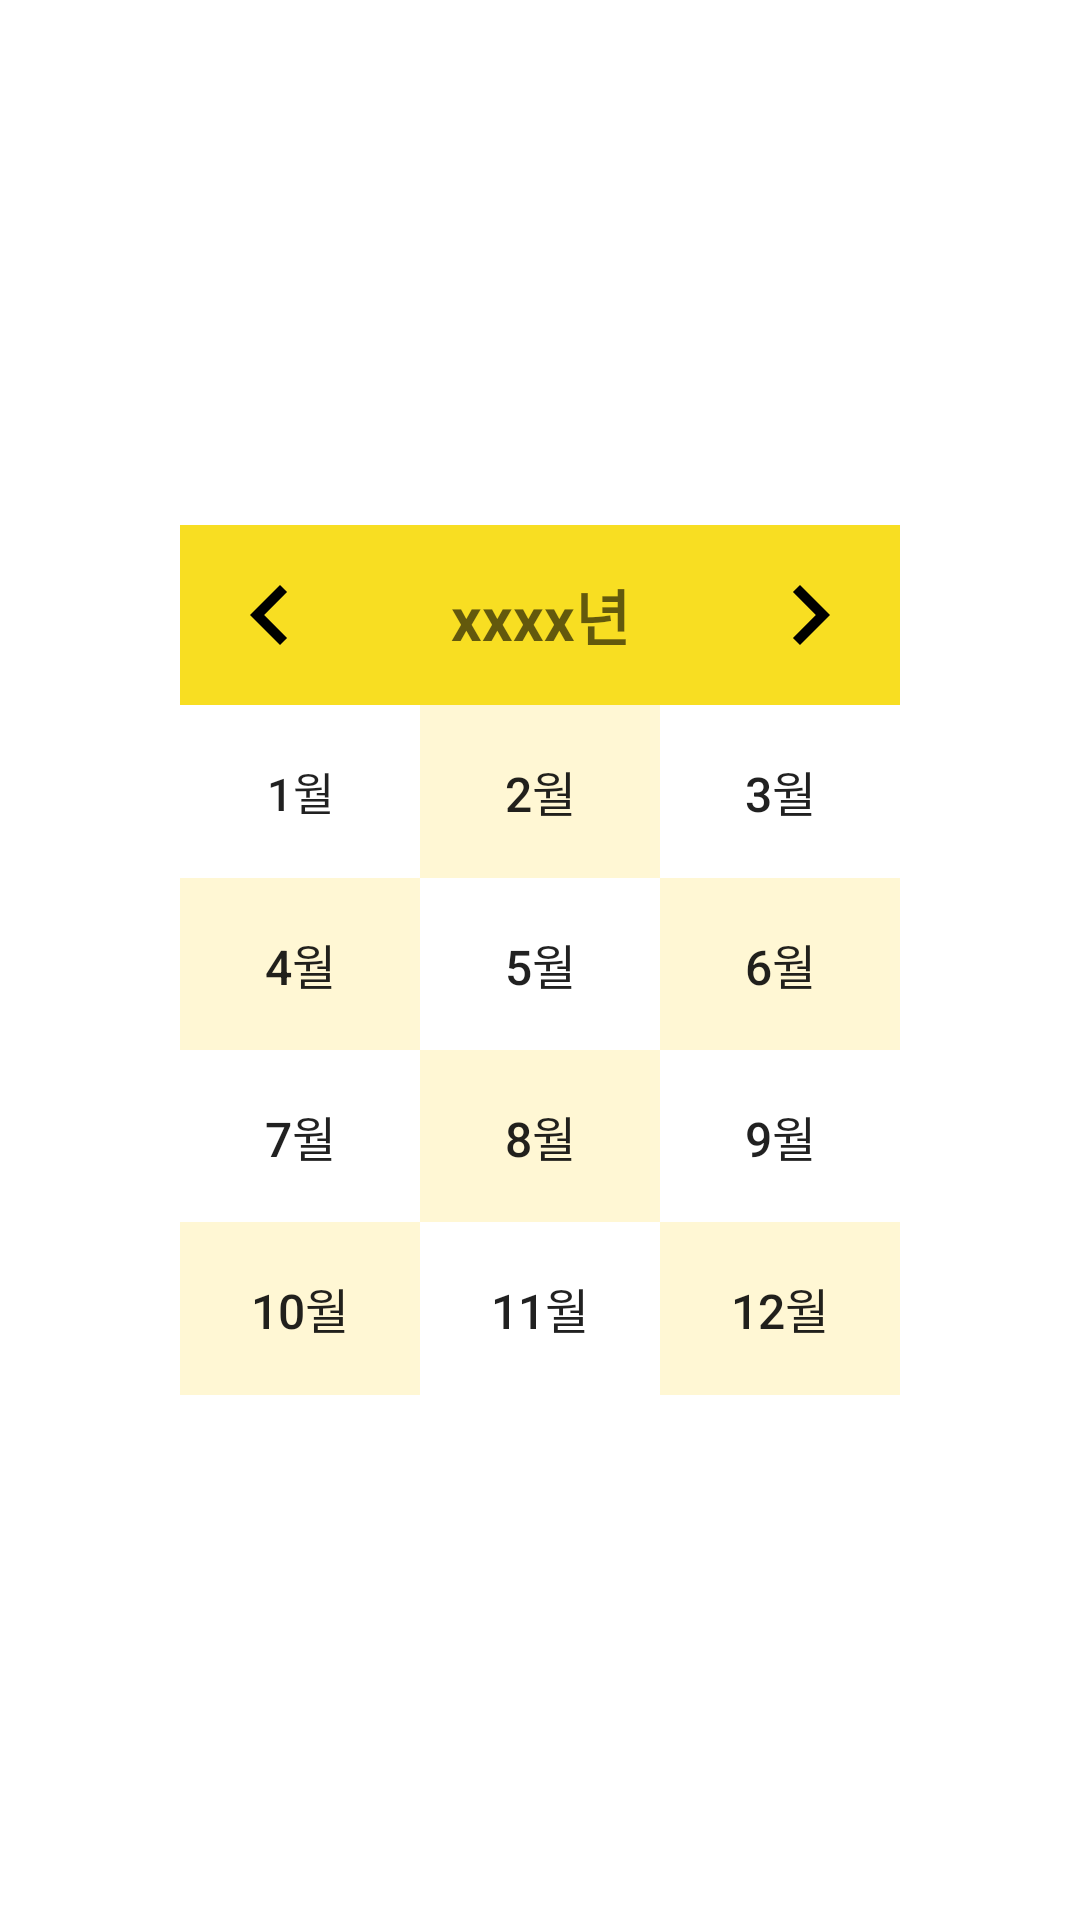

Screen size 1080px×1920px. Icon name, then its box in pixels as detection(x1, y1, x2, y2):
chevron left: detection(250, 585, 287, 645)
chevron right: detection(793, 585, 830, 645)
